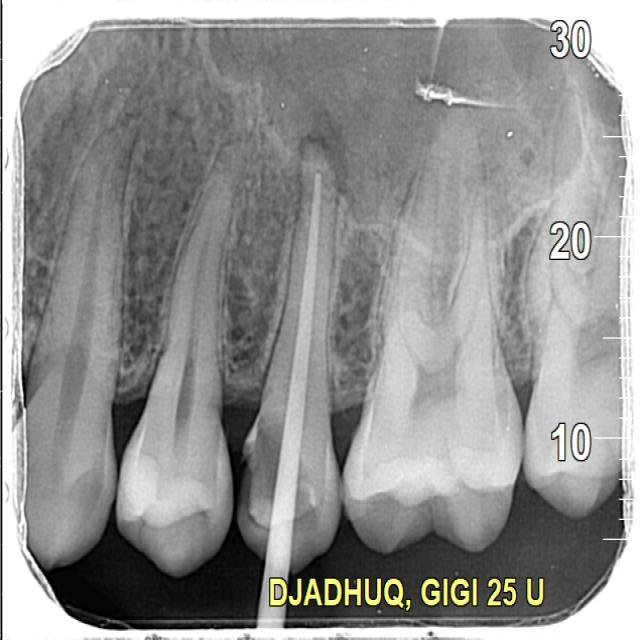individual-tooth-8tto: (346, 137, 516, 554), (108, 143, 248, 579), (236, 133, 336, 566)
